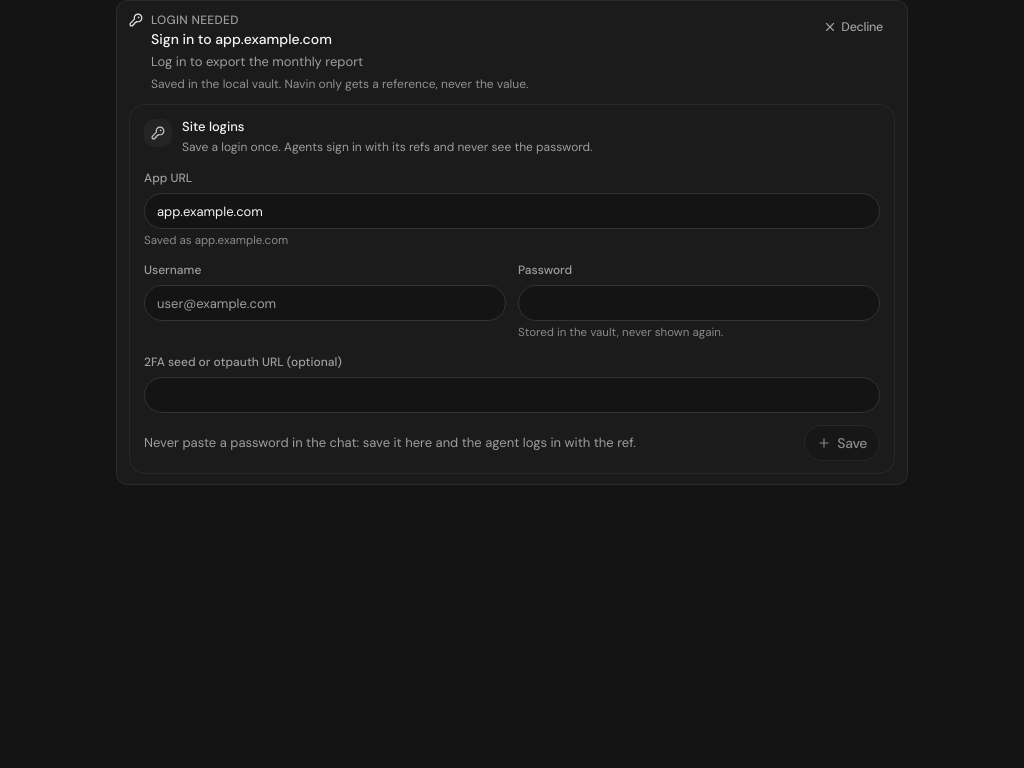
Test: CredentialRequestCards › saves a site login through the vault API and sends only a status on the socket
This screenshot has width=1024, height=768.
Expected: the dialog with test id "credential-request-card" is shown, [116,0,908,485]
Expected: the text "Log in to export the monthly report" is shown, [151,53,363,70]
Type "me@example.com" into the field with test id "site-username" at (325, 303), box [144,285,506,321]
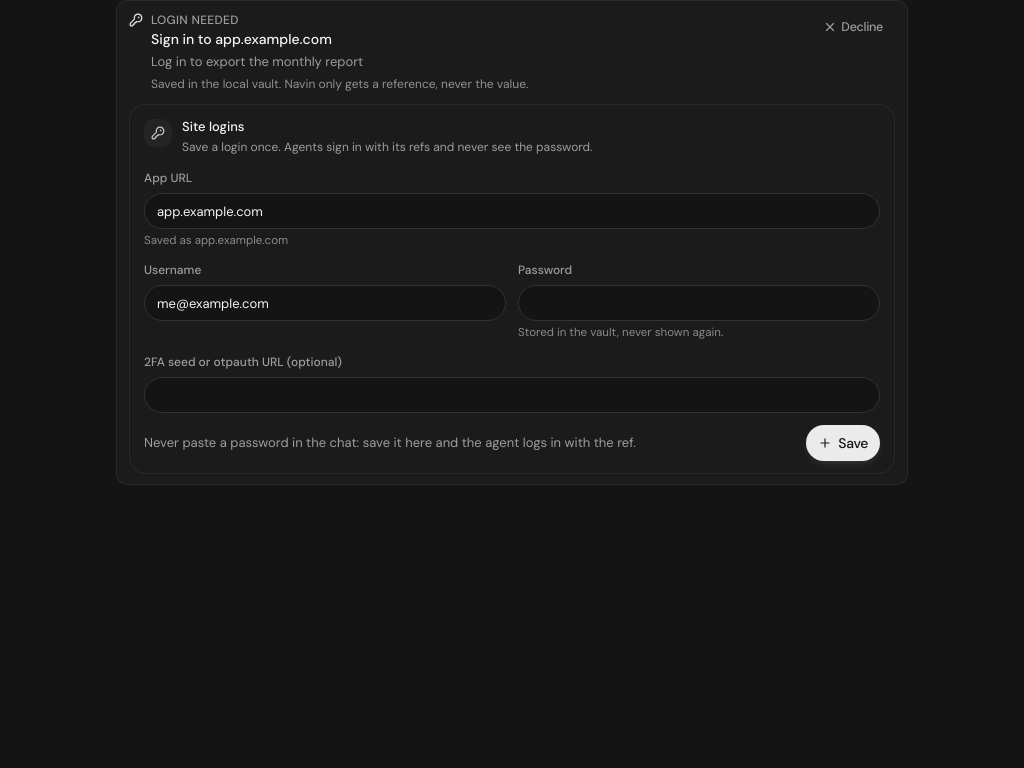
Type "Pa55-word-Never-Shown" into the password field with test id "site-password" at (699, 303), box [518,285,880,321]
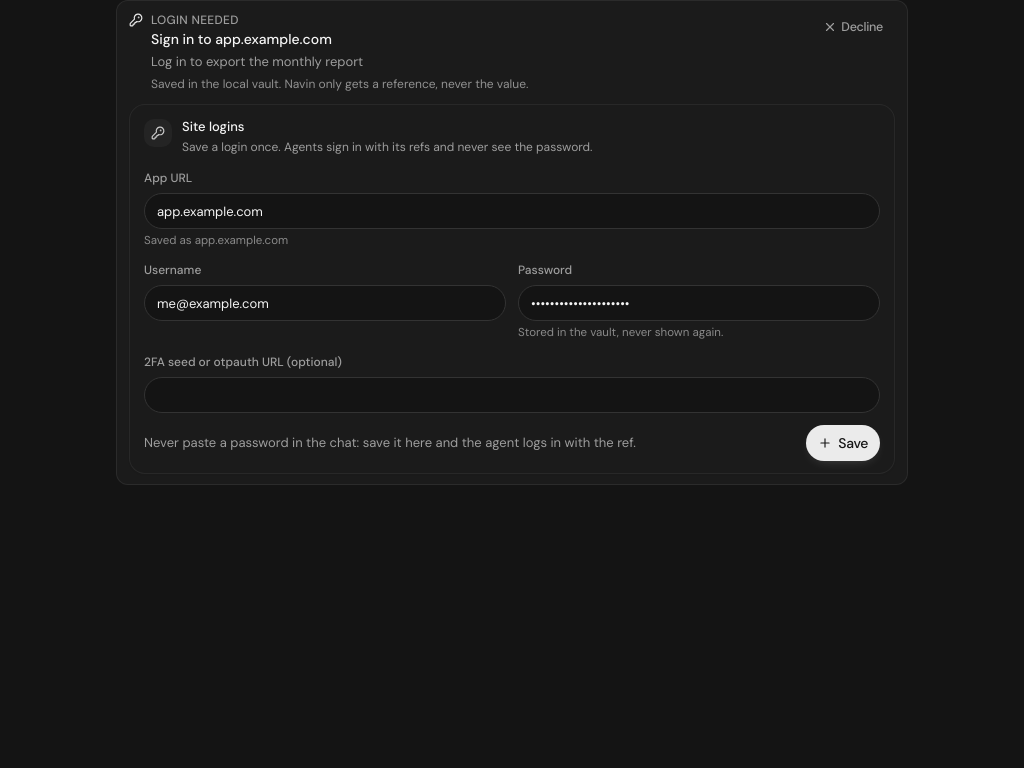
Click the button with test id "site-save" at (843, 443), box [806,425,880,461]
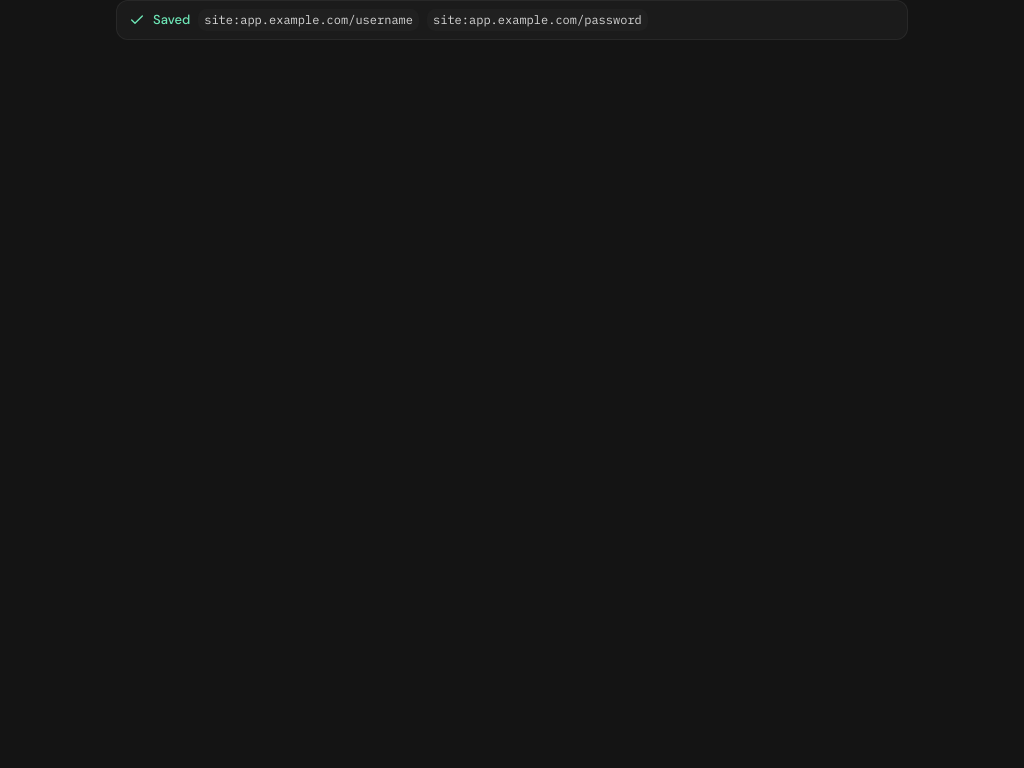
Result: the message "Saved site:app.example.com/username site:app.example.com/password" is shown at [116,0,908,40]
Result: the text "site:app.example.com/password" is shown at [427,9,648,31]
Result: the dialog with test id "credential-request-card" is gone
